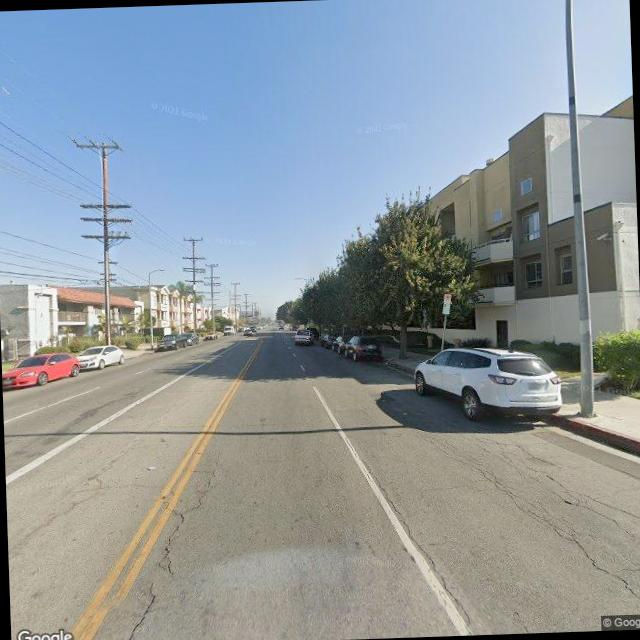pothole: (453, 390, 640, 603), (354, 443, 476, 626), (117, 445, 220, 640), (12, 432, 132, 546)
